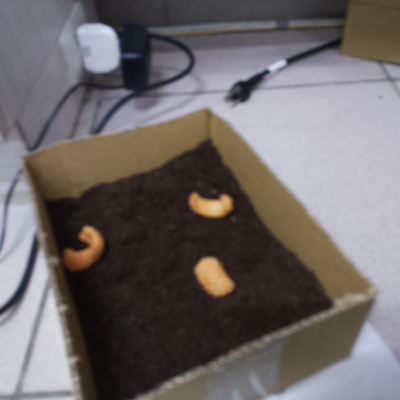eggs: (57, 223, 109, 275), (189, 251, 239, 301), (182, 186, 237, 222)
